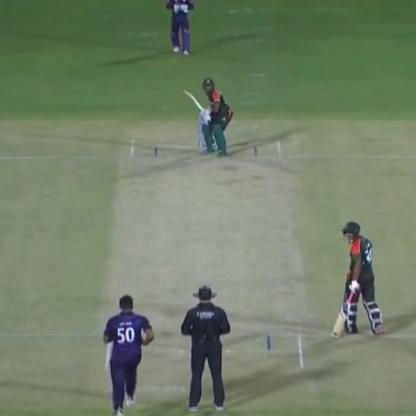pitch: (104, 137, 312, 371)
